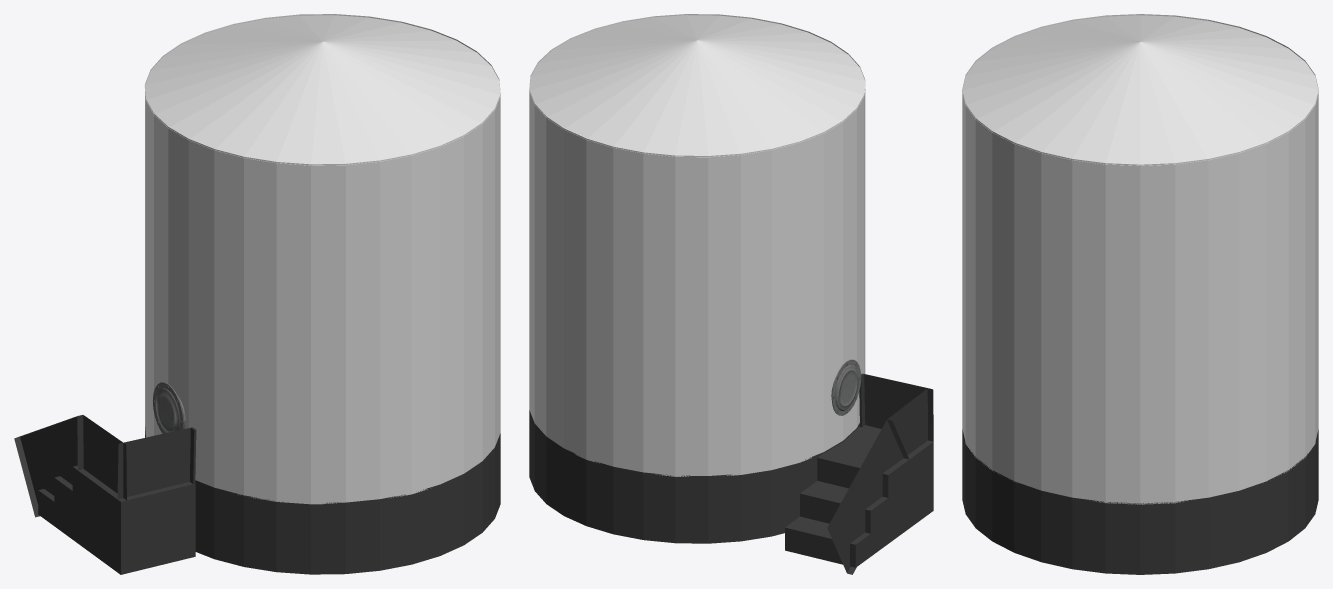
File: TANK.glb
3 views of the same model, side by side, from view 1: azimuth 30°, elevation 25°; view 2: azimuth 150°, elevation 25°; view 3: azimuth 270°, elevation 25° (orthographic). The views are drawn at different scales.
Visible parts, largest first — view 1: Cilindro, Plano.003, Pipe_Straight1; view 2: Cilindro, Plano.003, Pipe_Straight1; view 3: Cilindro.
Boxes of the visible parts, box(x1,y1,x2,y2) form: Cilindro: box(144, 14, 500, 574); Plano.003: box(14, 415, 196, 574); Pipe_Straight1: box(153, 382, 185, 433); Cilindro: box(529, 14, 865, 543); Plano.003: box(785, 373, 933, 574); Pipe_Straight1: box(831, 359, 861, 415); Cilindro: box(962, 14, 1318, 574).
Size of the model in its own units: 9.13 by 10.67 by 7.41.
3 materials, 1 textured.
